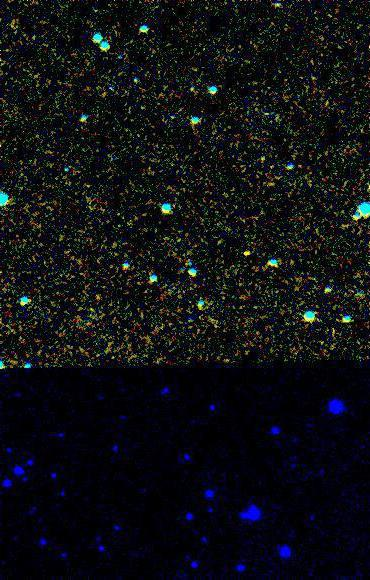star: (235, 238, 265, 268)
